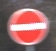No entry: (6, 5, 51, 46)
